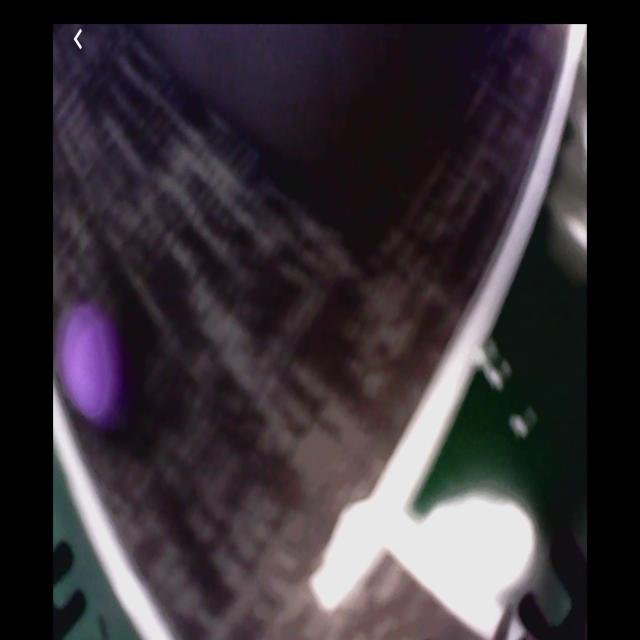ball: (63, 305, 122, 431)
